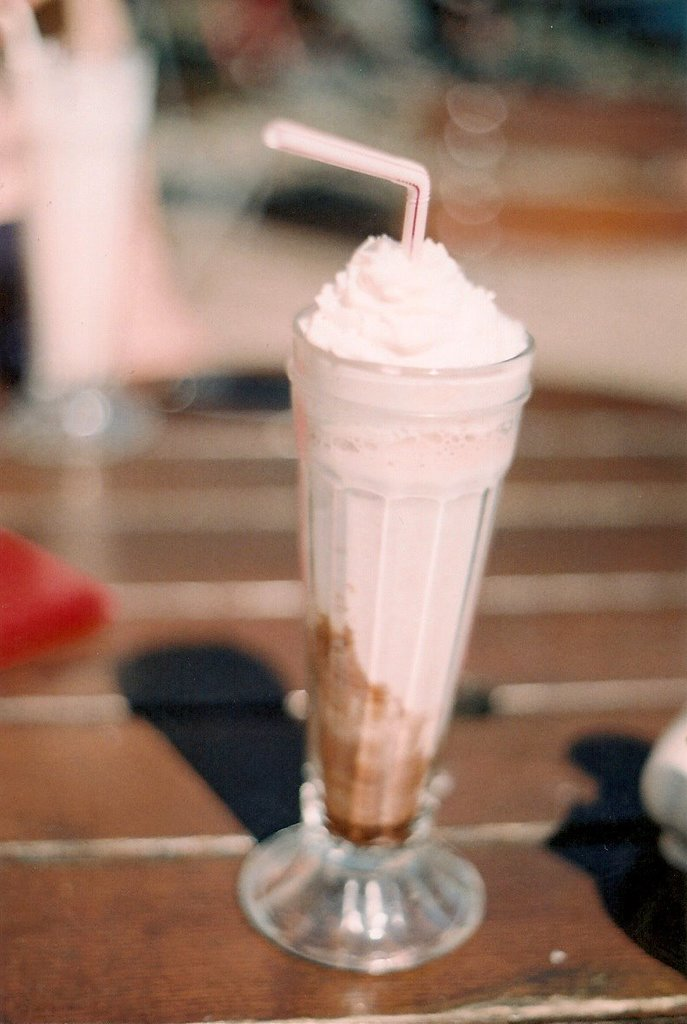face: (0, 0, 58, 227)
